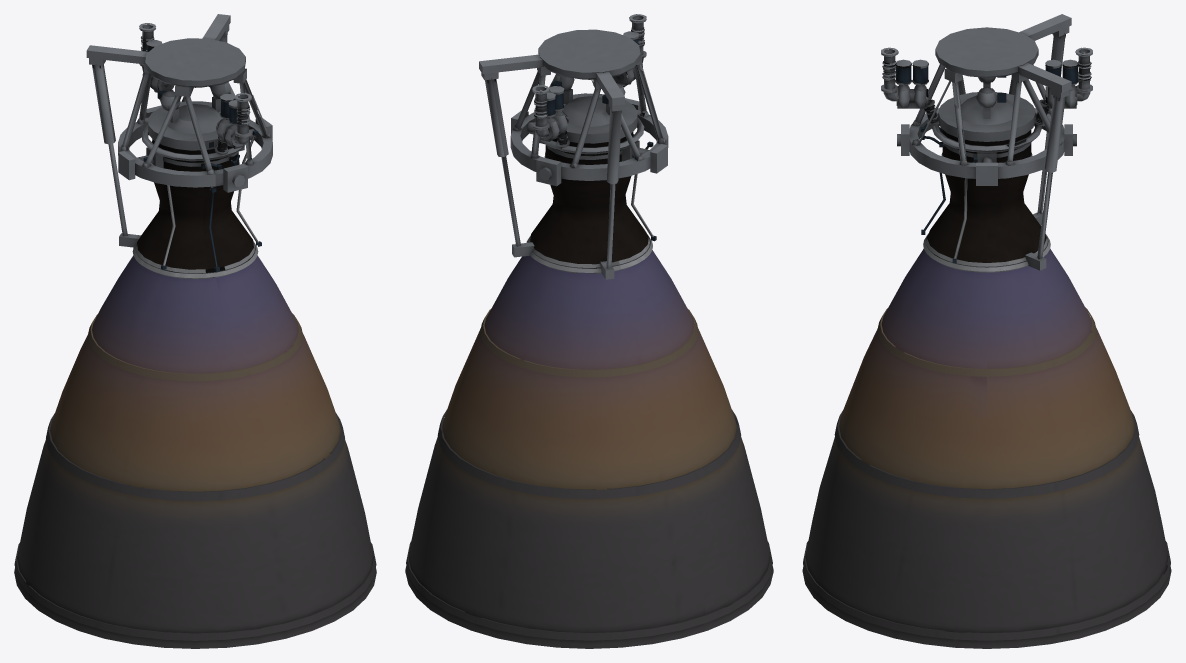
The model's file is eng_hypergolic_storable.glb.
The picture shows the model from 3 angles, left to right: view 1: azimuth 30°, elevation 25°; view 2: azimuth 150°, elevation 25°; view 3: azimuth 270°, elevation 25°; orthographic projection.
Parts seen in each view (by area): view 1: eng_hypergolic_storable_mesh; view 2: eng_hypergolic_storable_mesh; view 3: eng_hypergolic_storable_mesh.
Part boxes in pixels (box(x1,y1,x2,y2)): eng_hypergolic_storable_mesh: box(14, 14, 376, 648); eng_hypergolic_storable_mesh: box(405, 14, 773, 648); eng_hypergolic_storable_mesh: box(802, 14, 1171, 648).
Size of the model in its own units: 2.5 by 3.9 by 2.5.
1 material, 1 textured.
